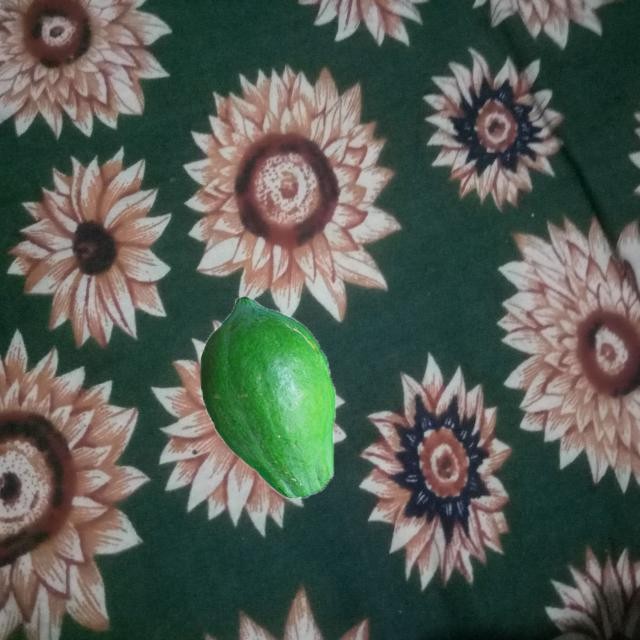Pepaya unrippen: (194, 292, 345, 506)
